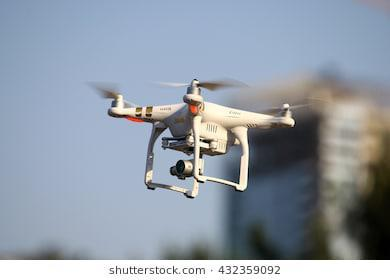drone: (101, 70, 297, 199)
